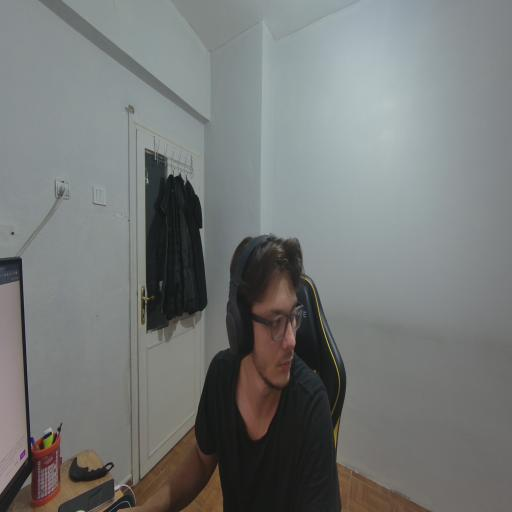cuma-face-v2: (226, 226, 312, 392)
